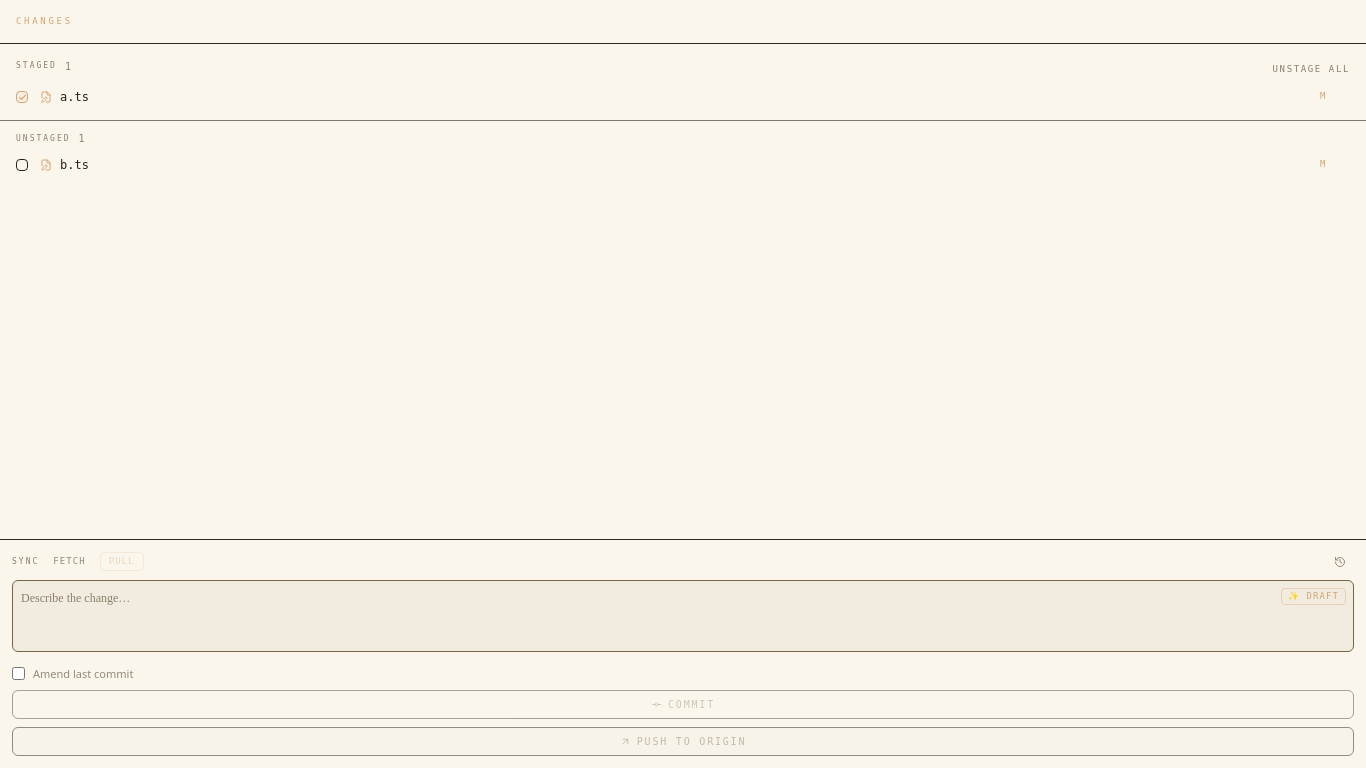
ChangesPanel G4 › amend toggle pre-fills the last commit message and shows the pushed warning
Expected: the text "a.ts" is shown, [60,90,89,104]
Step 1. Click the checkbox labelled "Amend last commit" → click(18, 674), box [12,667,25,680]
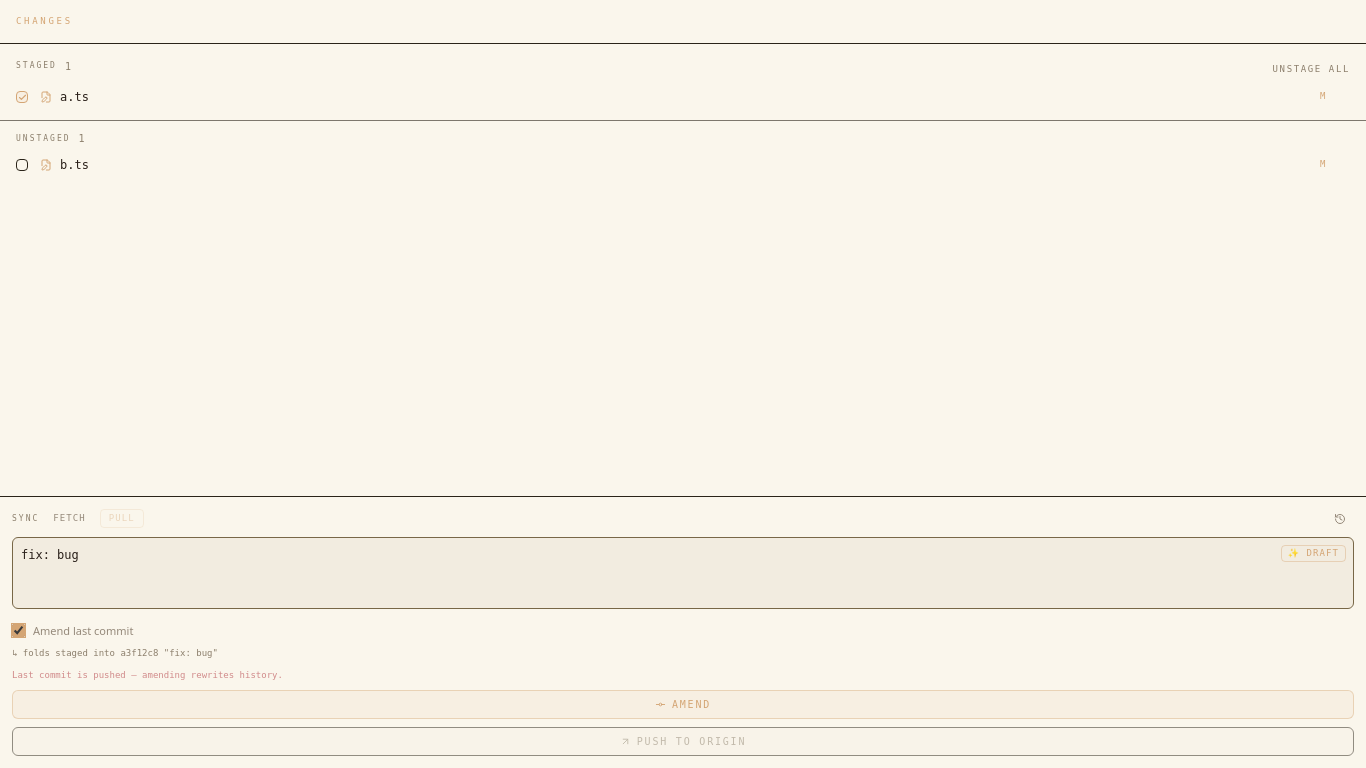
Expected: the text box with placeholder "Describe the change…" holds "fix: bug", [12,536,1354,608]
Expected: the text "Last commit is pushed — amending rewrites history." is shown, [12,670,283,680]
